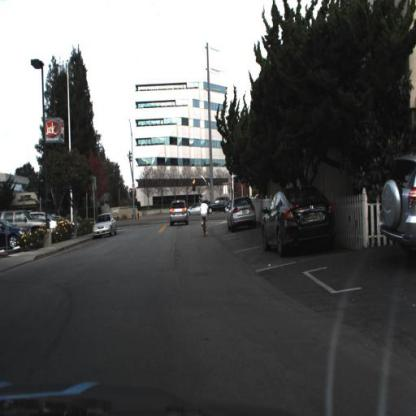biker: (202, 203, 209, 242)
car: (261, 185, 338, 258), (380, 150, 416, 264), (2, 211, 46, 240), (226, 197, 259, 231), (31, 211, 62, 240), (93, 213, 118, 241), (171, 199, 189, 226), (208, 198, 234, 215), (187, 202, 207, 218)
trafficLight-Red: (192, 180, 197, 194)
